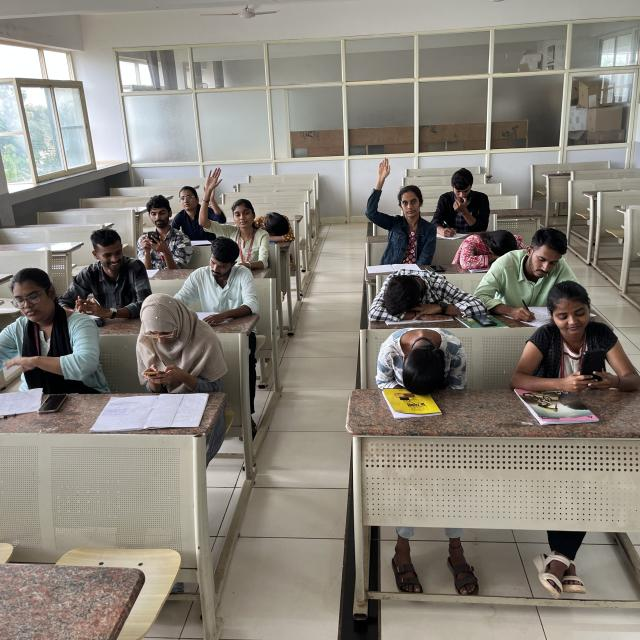Hand Rising: (367, 154, 436, 253), (201, 166, 269, 258)
Reading: (182, 238, 257, 326)
Sleeping: (371, 328, 473, 394), (367, 263, 473, 320), (456, 226, 530, 272), (263, 208, 299, 245)
Using Phone: (510, 282, 636, 398), (117, 288, 216, 390), (56, 226, 150, 324), (127, 195, 186, 269)
Writing: (482, 224, 590, 326), (430, 168, 491, 240)
